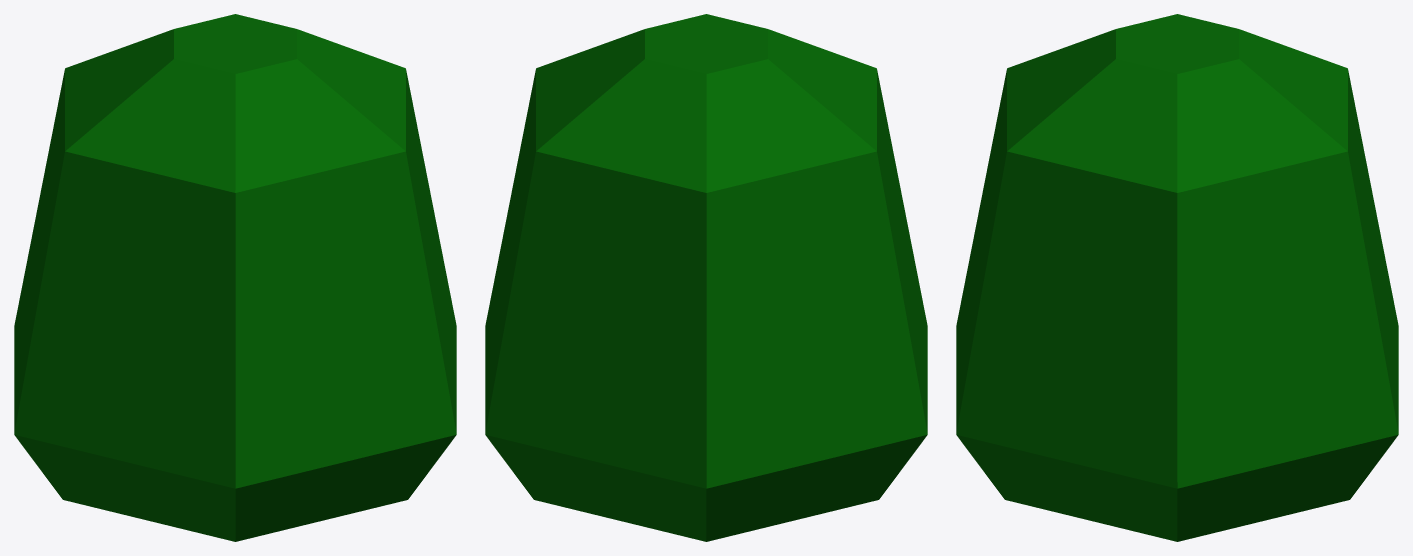
Rendered from Vegetation_Modular_New_Bush_Shrub_Geometric_02.FBX.
3 views of the same model, side by side, from view 1: azimuth 30°, elevation 25°; view 2: azimuth 150°, elevation 25°; view 3: azimuth 270°, elevation 25° (orthographic).
Visible parts, largest first — view 1: Vegetation_Modular_New_Bush_Shrub_Geometric_02; view 2: Vegetation_Modular_New_Bush_Shrub_Geometric_02; view 3: Vegetation_Modular_New_Bush_Shrub_Geometric_02.
Part boxes in pixels (x1,y1,x2,y2): Vegetation_Modular_New_Bush_Shrub_Geometric_02: (14, 14, 456, 541); Vegetation_Modular_New_Bush_Shrub_Geometric_02: (485, 14, 927, 541); Vegetation_Modular_New_Bush_Shrub_Geometric_02: (956, 14, 1398, 541).
Size of the model in its own units: 1984 by 1772 by 1718.
